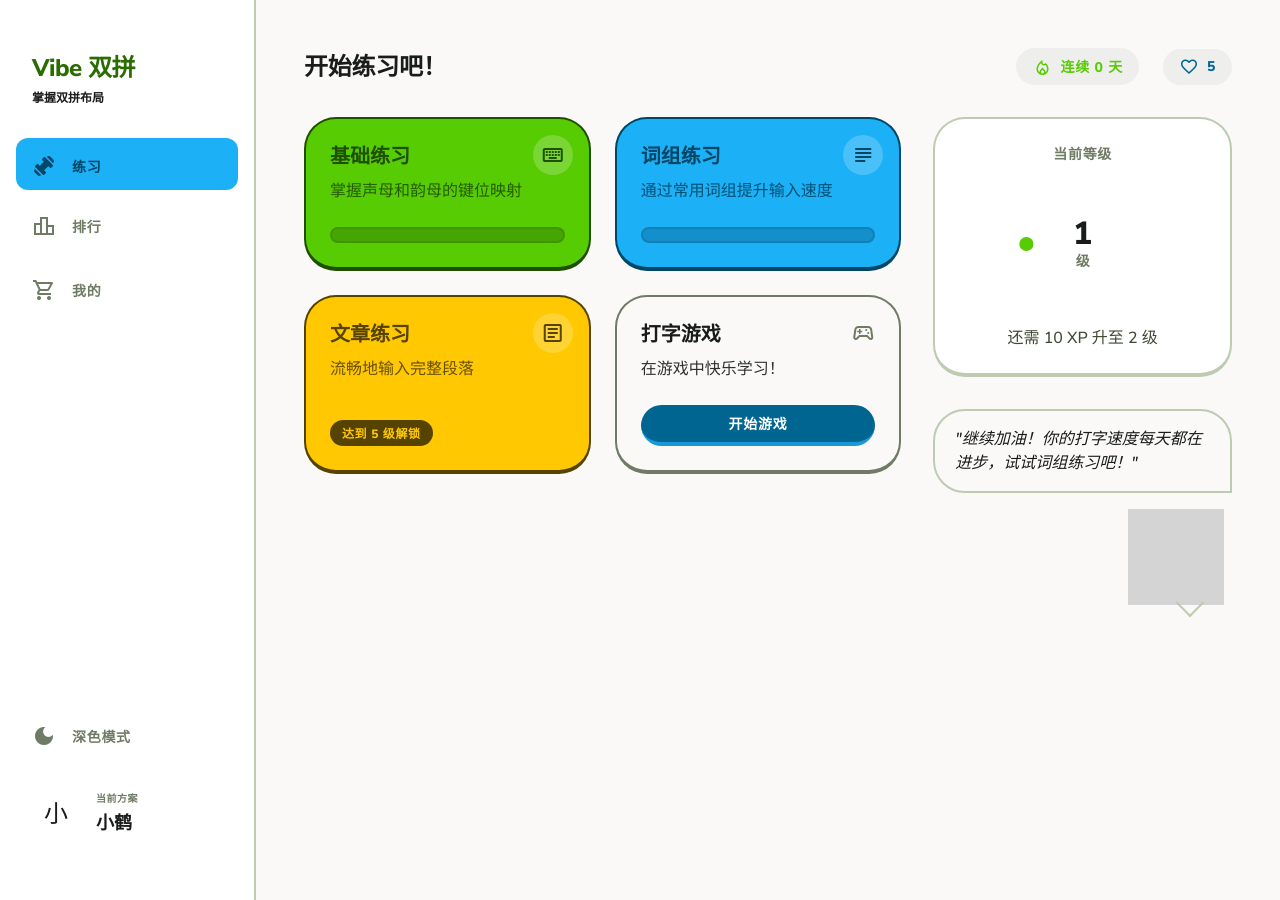
Test: App › starts phrase exercise directly when clicking 词组练习 card
Click the heading "词组练习" at (681, 157), box [641,143,721,171]
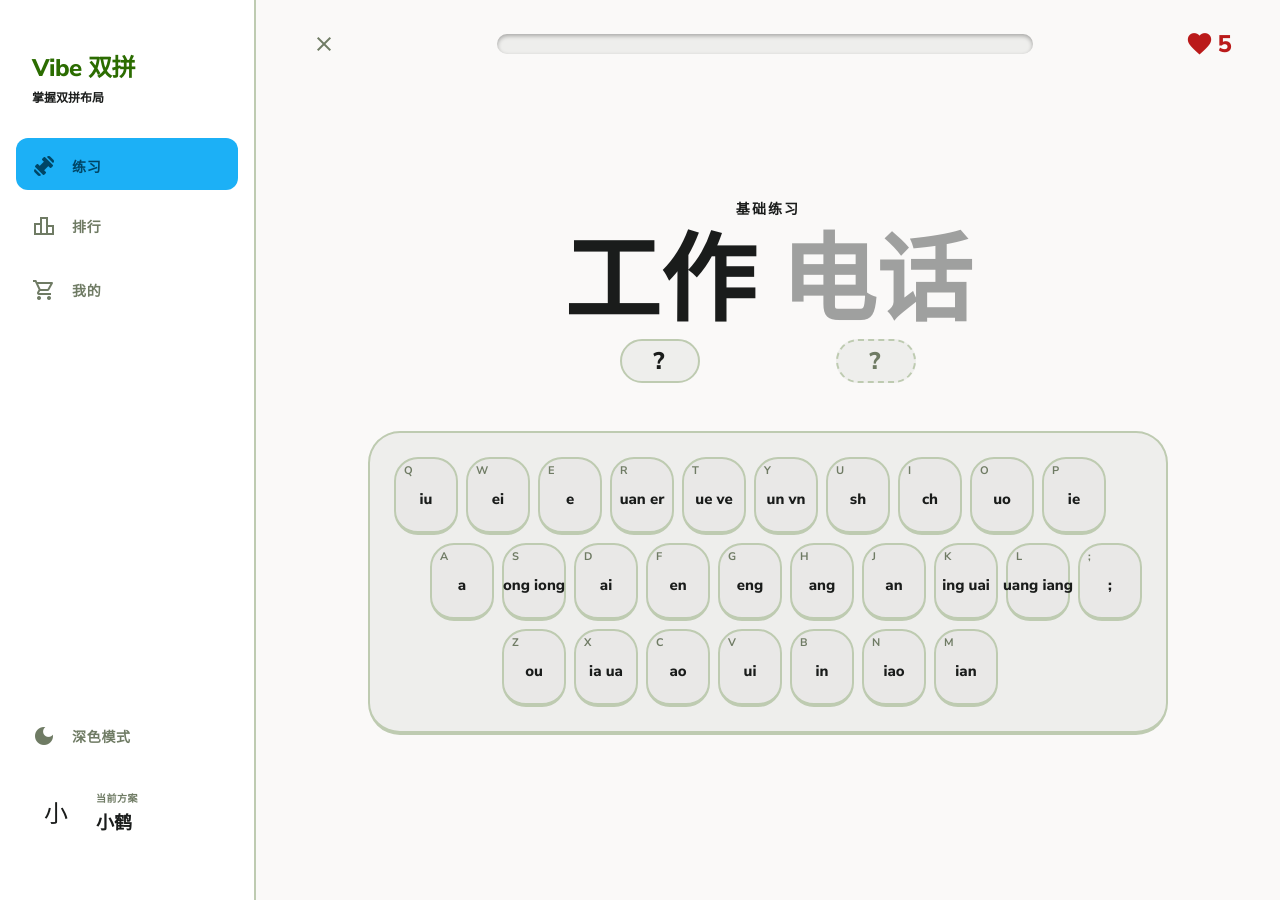
Expected: the element named "输入双拼编码" is shown
